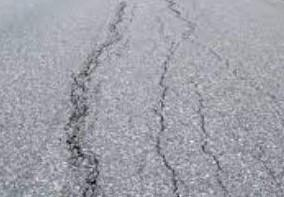crack: (161, 1, 237, 197), (68, 0, 134, 197)
